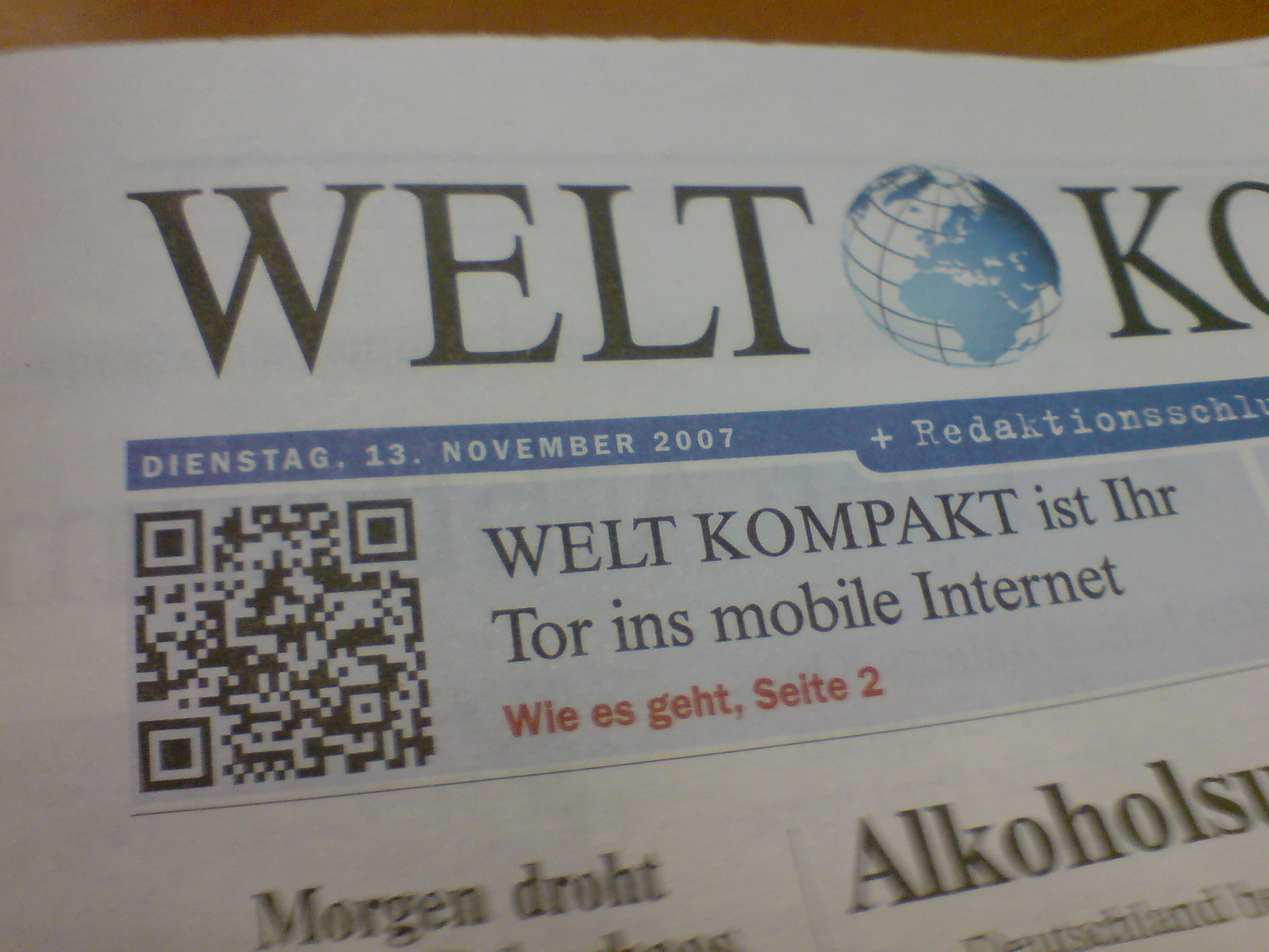QR-CODE: (135, 498, 435, 792)
